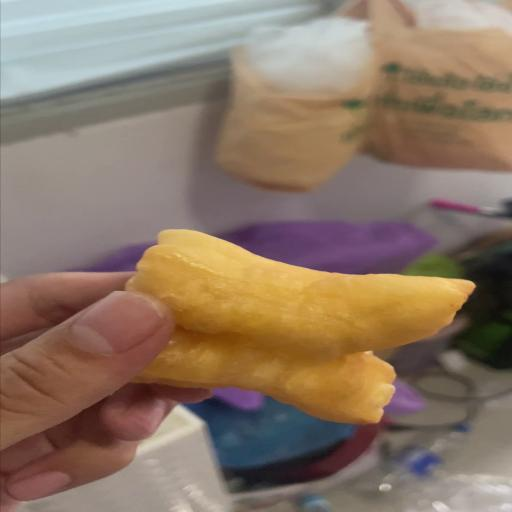street_golden_good: (128, 230, 474, 422)
